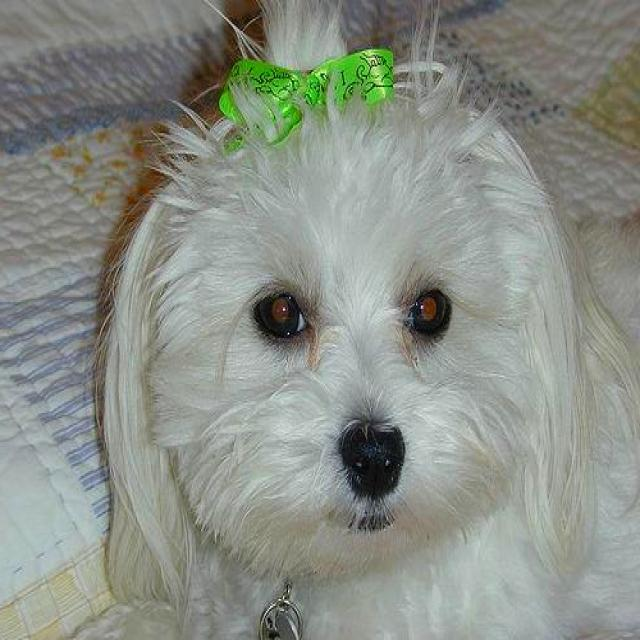maltese_dog: (94, 9, 584, 638)
